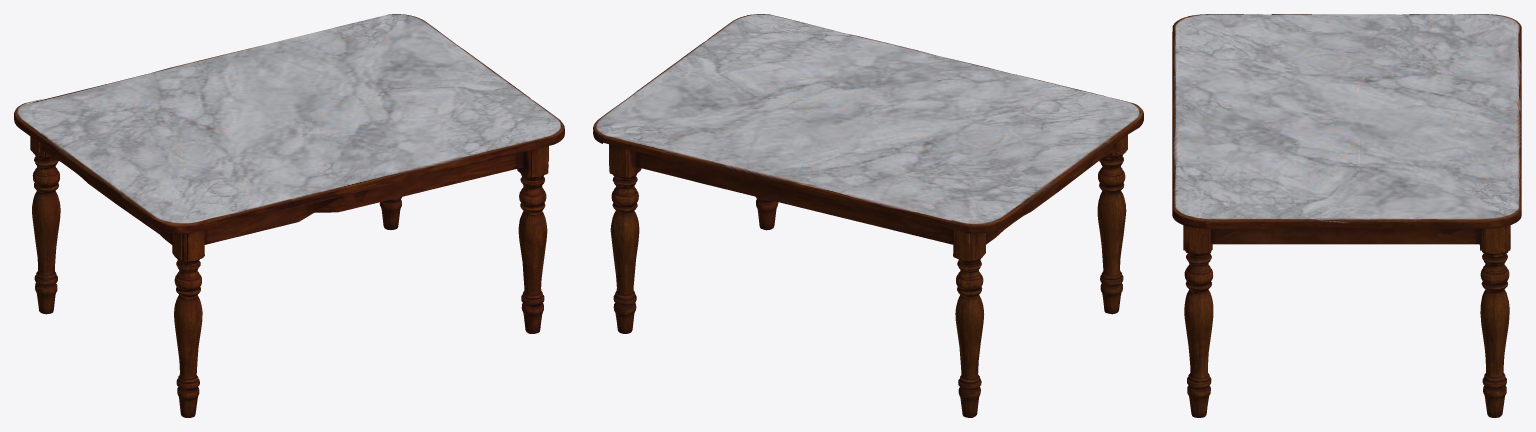
The model's file is w4dintable.glb.
3 renders of one model, left to right at view 1: azimuth 30°, elevation 25°; view 2: azimuth 150°, elevation 25°; view 3: azimuth 270°, elevation 25°, orthographic. The views are drawn at different scales.
Parts seen in each view (by area): view 1: output_unwrapped; view 2: output_unwrapped; view 3: output_unwrapped.
Boxes of the visible parts, <box> form: output_unwrapped: <box>14,14,564,417</box>; output_unwrapped: <box>593,14,1143,417</box>; output_unwrapped: <box>1172,14,1521,417</box>.
Size of the model in its own units: 1.2 by 0.5708 by 0.8542.
1 material, 1 textured.
